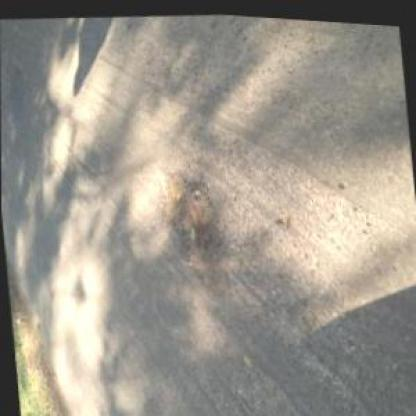pothole: (154, 161, 236, 301)
